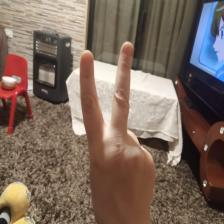two: (76, 42, 154, 220)
